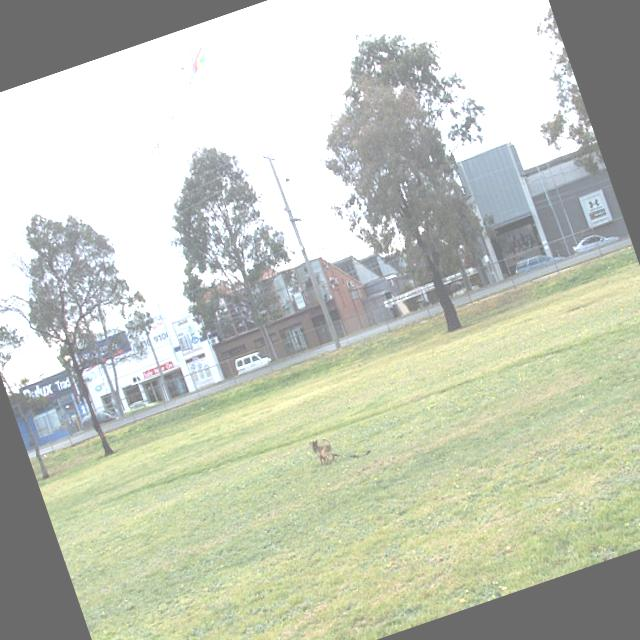Vehicle: (78, 246, 568, 429), (568, 223, 626, 258), (232, 348, 273, 376), (121, 392, 163, 416)
